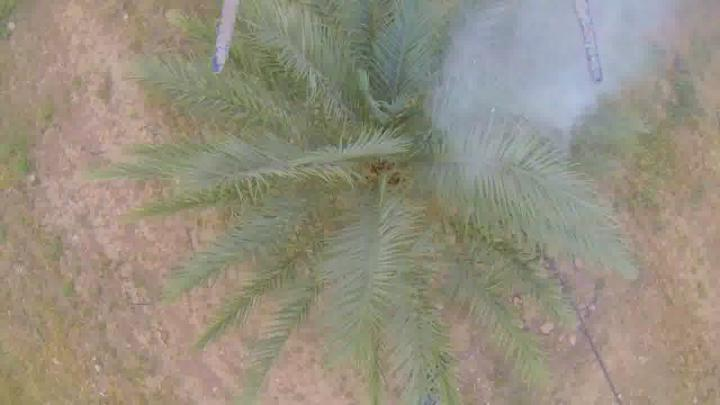Date-Palm-Crown: (208, 35, 562, 294)
